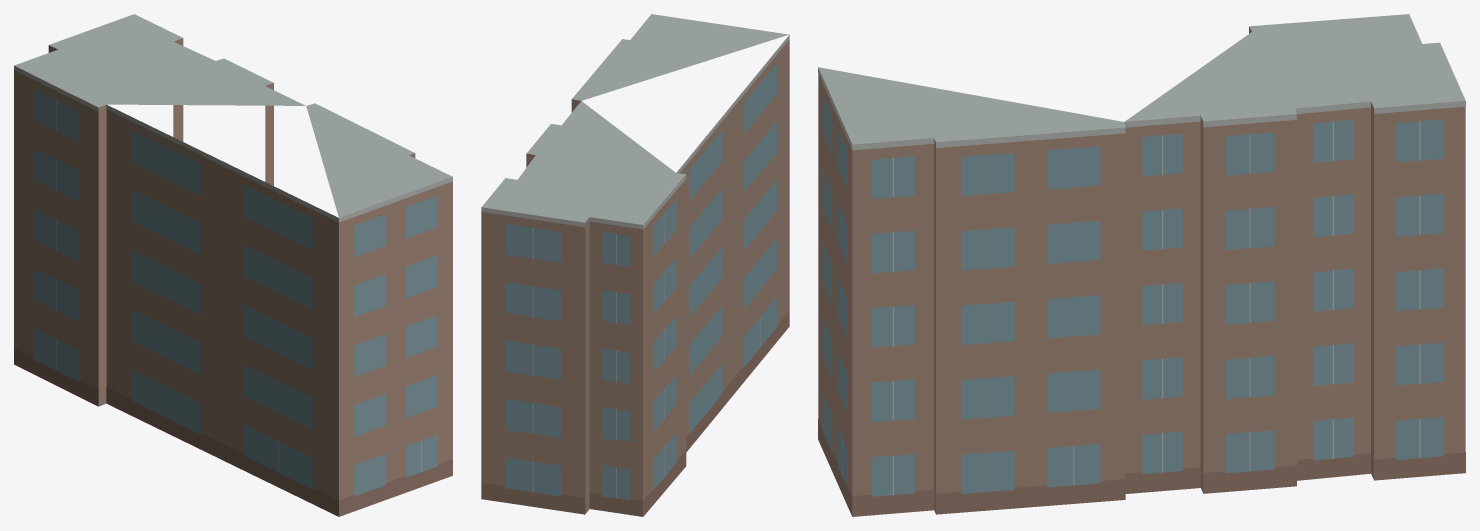
Rendered from survey-upis-33047377.glb.
The picture shows the model from 3 angles, left to right: view 1: azimuth 30°, elevation 25°; view 2: azimuth 150°, elevation 25°; view 3: azimuth 270°, elevation 25°; orthographic projection. The views are drawn at different scales.
Visible parts, largest first — view 1: survey-upis-33047377.tmp; view 2: survey-upis-33047377.tmp; view 3: survey-upis-33047377.tmp.
Boxes of the visible parts, left/top/right/bottom form: survey-upis-33047377.tmp: left=14, top=14, right=452, bottom=516; survey-upis-33047377.tmp: left=481, top=14, right=789, bottom=516; survey-upis-33047377.tmp: left=818, top=14, right=1465, bottom=516.
Bounding box in the file's own units: 11.91 × 15.8 × 24.93.
